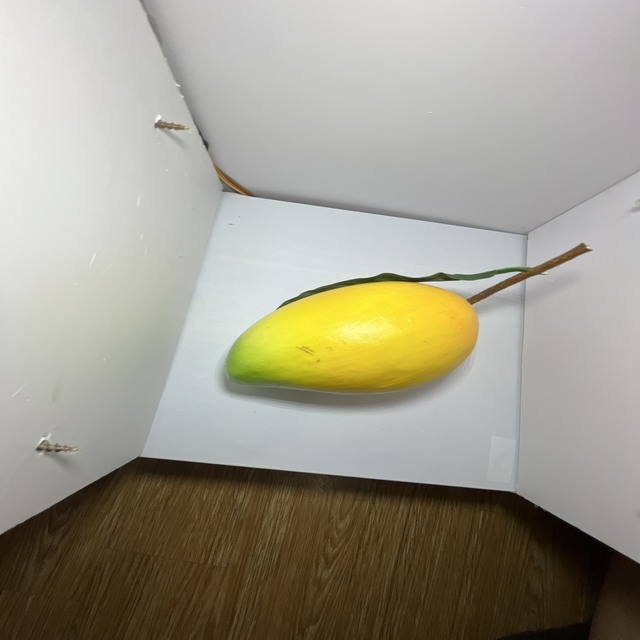Xoai: (201, 247, 500, 446)
